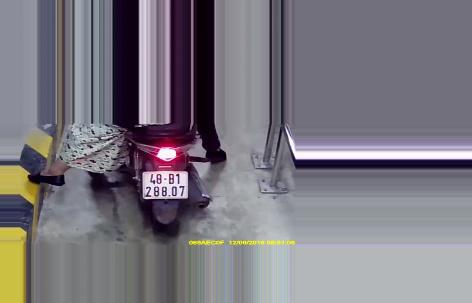License_Plate: (141, 169, 190, 203)
